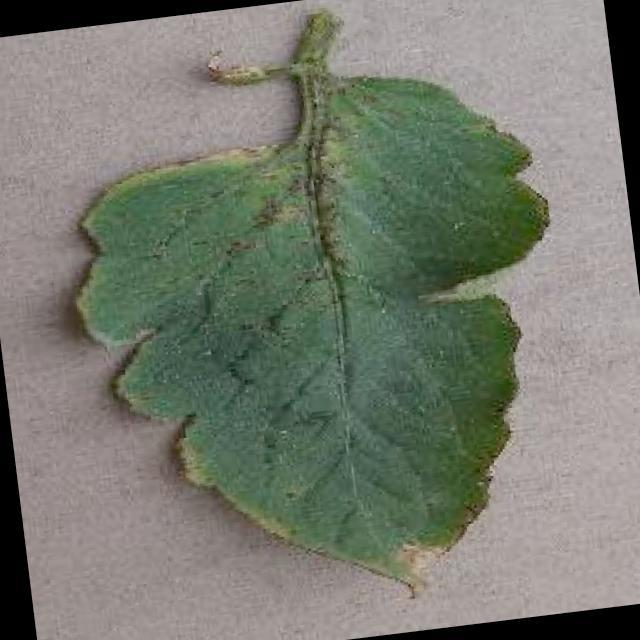Tomato bacterial spot leaf: (48, 41, 599, 640)
